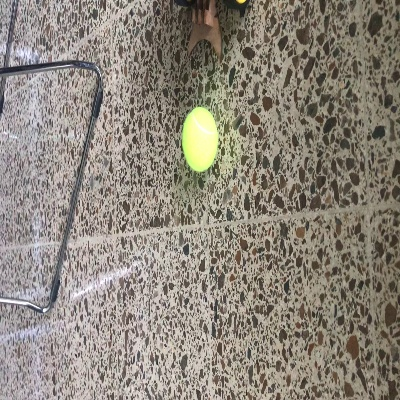Ball: (181, 107, 217, 172)
Robot: (170, 3, 244, 56)
